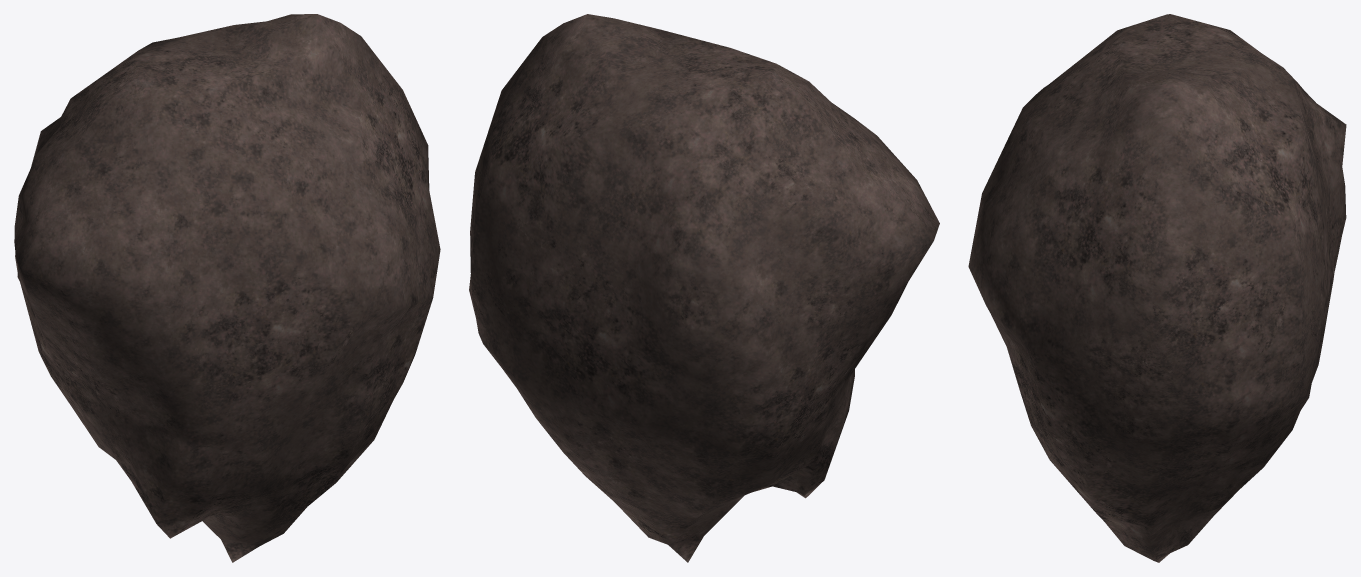
The model's file is rock.fbx.
3 renders of one model, left to right at view 1: azimuth 30°, elevation 25°; view 2: azimuth 150°, elevation 25°; view 3: azimuth 270°, elevation 25°, orthographic.
Visible parts, largest first — view 1: rock1; view 2: rock1; view 3: rock1.
Boxes of the visible parts, x1=… form: rock1: x1=14, y1=14, x2=440, y2=562; rock1: x1=469, y1=14, x2=939, y2=562; rock1: x1=968, y1=14, x2=1346, y2=562.
Size of the model in its own units: 1126 by 1326 by 866.
Materials: 1 (1 with a texture image).
